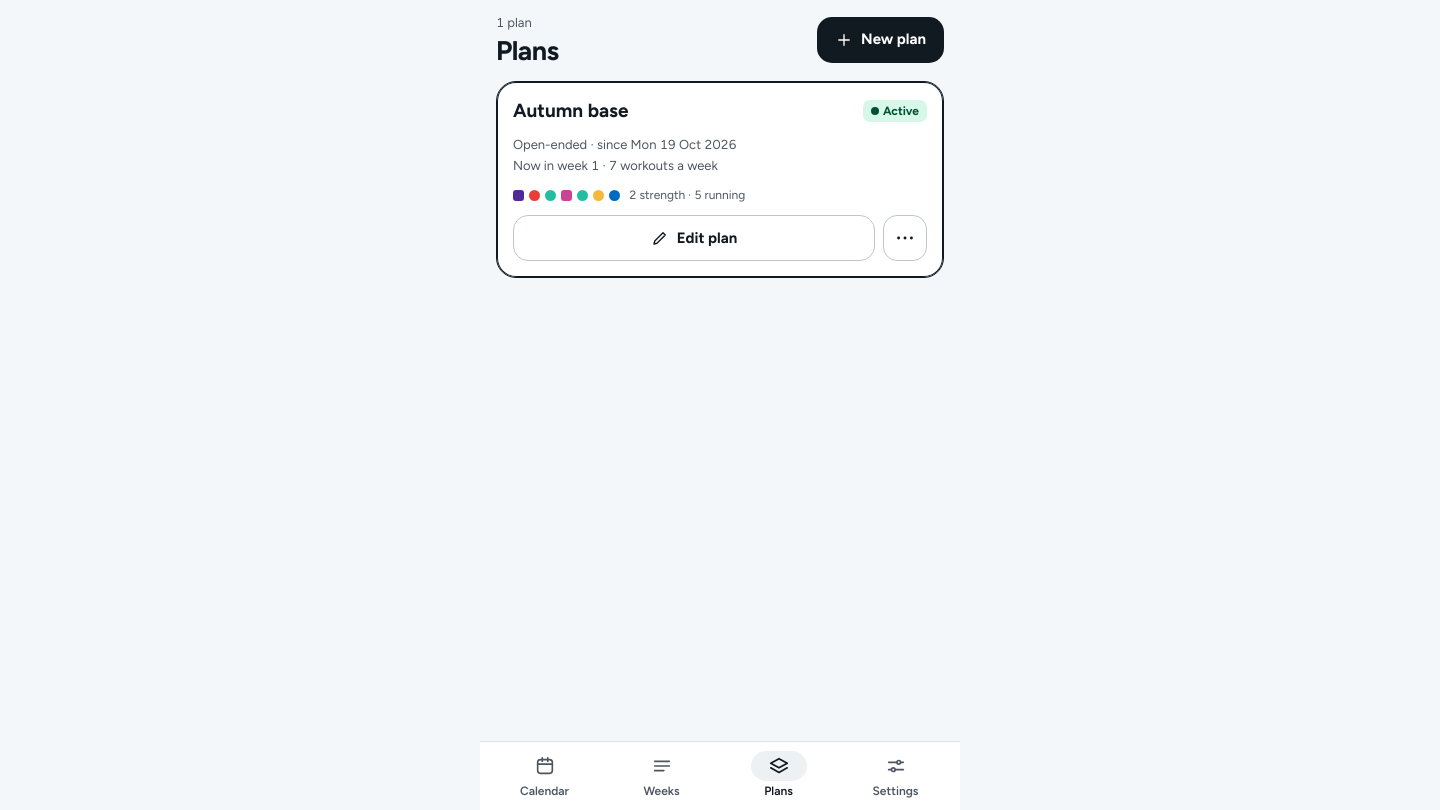
Scenario: ending a plan › keeps done workouts: the plan cannot end before the last one, a later date works
expect the heading "Plans" is shown: met, box [496,34,558,66]
Click the button named "End Autumn base" at (905, 238), box [883,215,927,261]
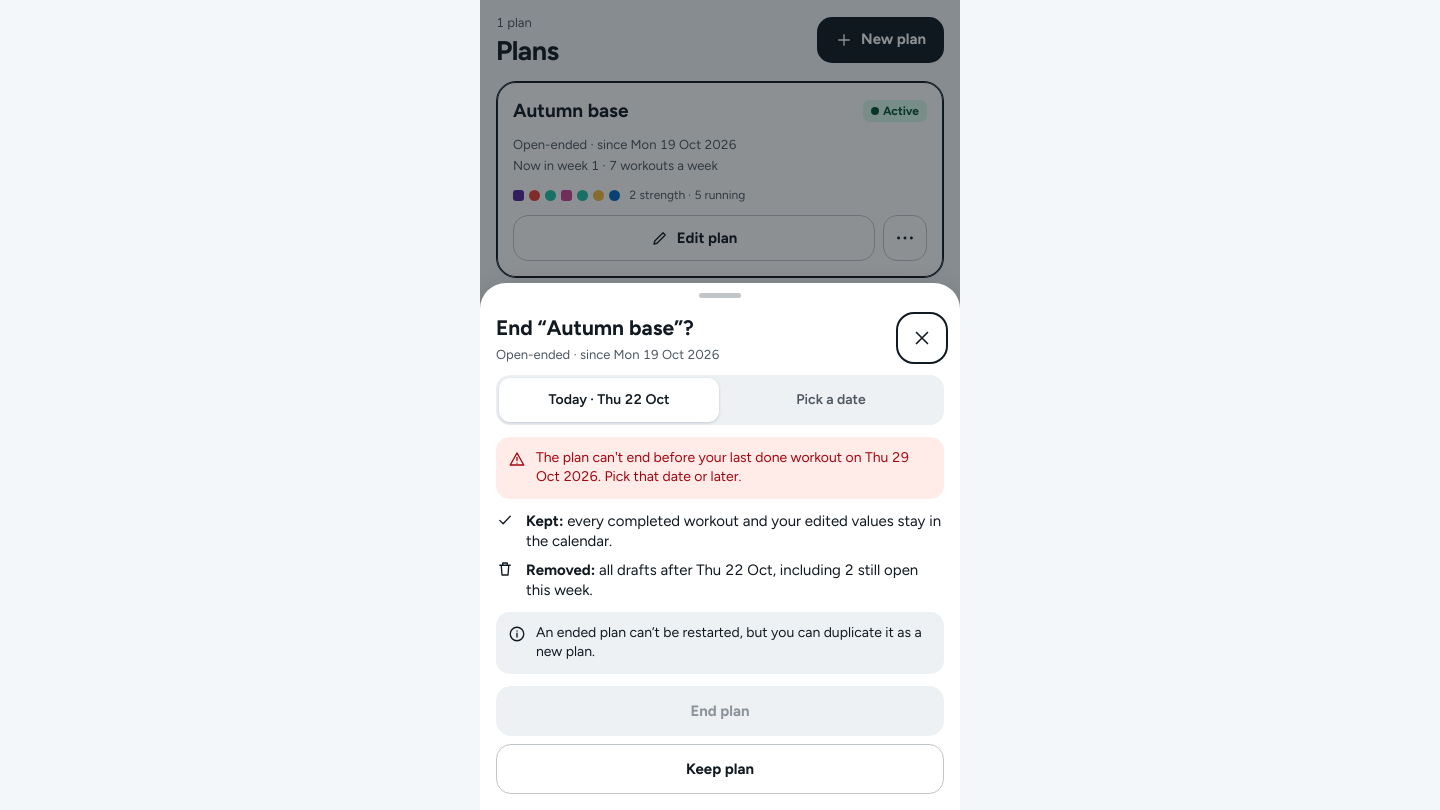
expect the 1st message shows "The plan can't end before your last done workout on Thu 29 Oct 2026": met, box [536,449,909,485]
expect the button "End plan" is disabled: met, box [496,686,944,736]
Click the button "Pick a date" at (831, 400), box [721,378,941,422]
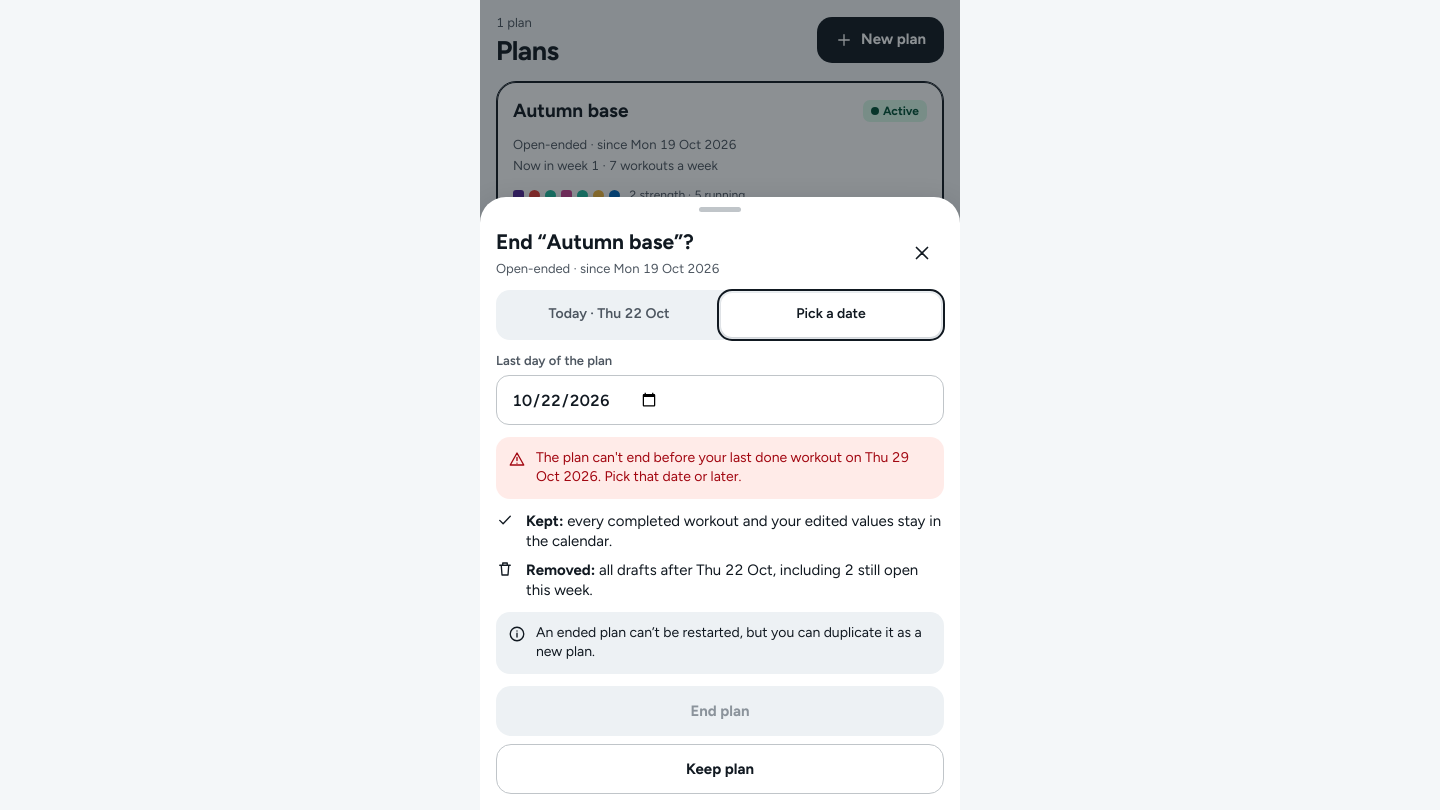
Type "2026-10-29" into the date field labelled "Last day of the plan" at (720, 400), box [496,375,944,425]
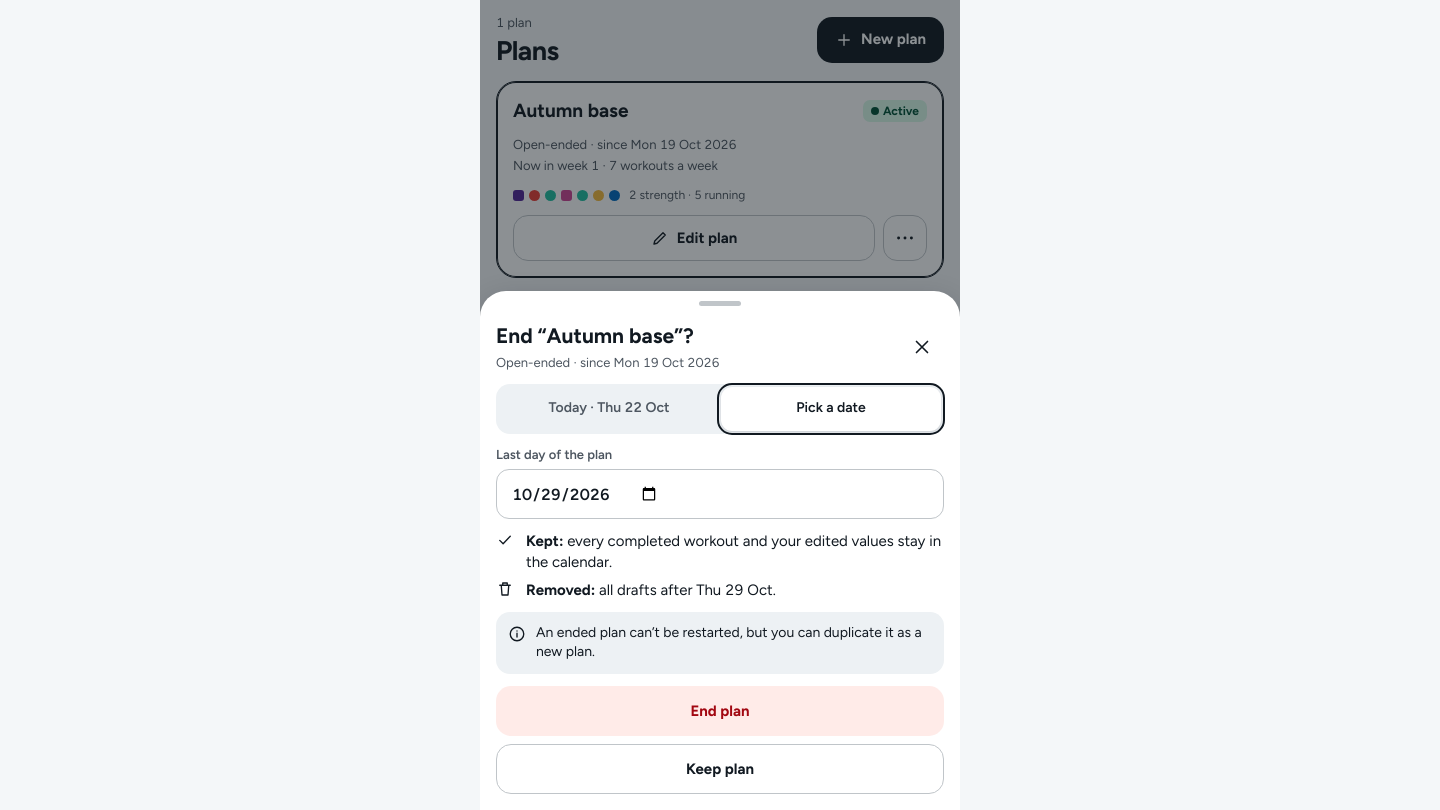
expect the button "End plan" is enabled: met
Click the button "End plan" at (720, 711), box [496,686,944,736]
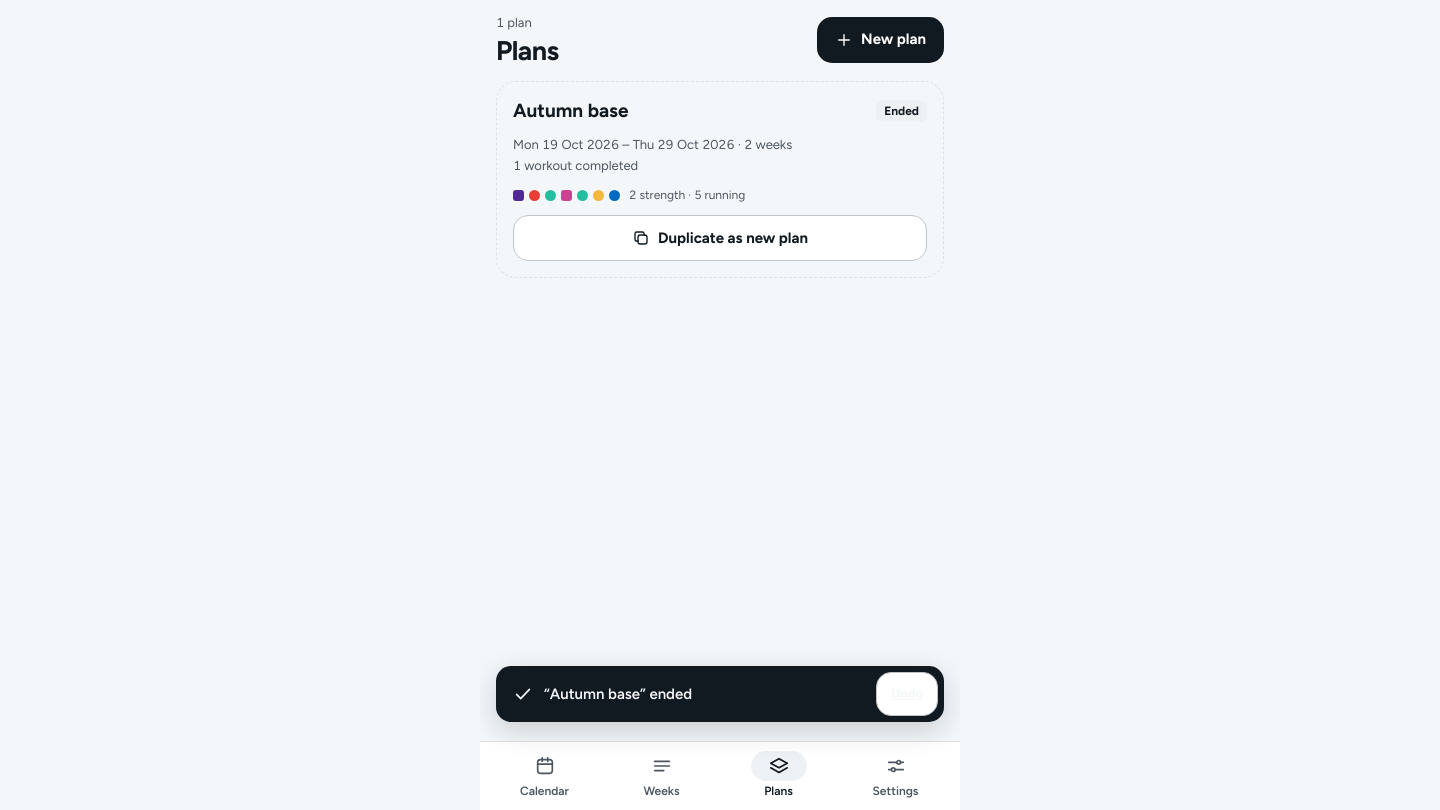
expect the text "“Autumn base” ended" is shown: met, box [544,684,692,704]
